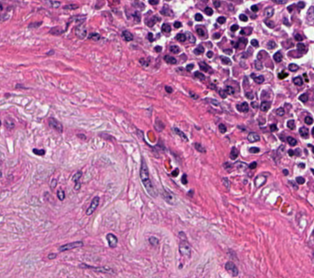nucleus: (140, 159, 155, 196), (58, 241, 83, 251), (86, 196, 99, 214), (49, 118, 62, 131), (174, 127, 187, 140), (75, 24, 86, 38), (106, 233, 117, 247), (232, 38, 246, 48), (162, 190, 173, 202), (146, 16, 159, 26), (199, 62, 211, 72), (251, 73, 263, 83), (236, 102, 248, 112), (161, 5, 172, 15), (255, 175, 265, 186), (164, 55, 176, 64), (72, 171, 81, 183), (122, 30, 132, 40), (260, 101, 270, 111), (194, 142, 204, 152), (148, 236, 158, 246), (247, 132, 258, 141), (5, 118, 14, 128), (89, 32, 100, 40), (175, 33, 186, 41), (155, 119, 163, 130), (264, 7, 273, 16), (161, 23, 170, 32), (196, 27, 205, 36), (194, 45, 203, 54), (273, 51, 281, 61), (220, 56, 230, 64), (240, 27, 251, 34), (57, 189, 64, 200), (186, 33, 194, 42), (139, 58, 148, 66), (254, 60, 262, 69), (225, 86, 234, 94), (218, 89, 226, 98), (206, 99, 218, 105), (194, 72, 204, 79), (230, 148, 237, 158), (33, 148, 44, 154), (235, 162, 246, 168), (204, 7, 212, 15), (267, 40, 275, 48), (218, 124, 226, 132), (264, 20, 273, 27), (170, 45, 179, 52), (49, 1, 59, 7), (194, 13, 202, 20), (239, 14, 247, 21), (217, 16, 225, 23), (230, 24, 238, 31), (276, 108, 284, 115), (29, 22, 40, 27), (133, 12, 139, 21), (223, 178, 229, 187), (50, 179, 56, 188), (249, 147, 259, 152), (174, 21, 181, 28), (251, 39, 258, 46), (171, 169, 178, 176), (64, 5, 76, 9), (181, 174, 186, 183), (213, 1, 220, 7), (251, 5, 258, 11), (186, 64, 193, 70), (165, 86, 172, 92), (190, 92, 197, 98), (270, 124, 276, 131), (223, 162, 230, 168), (249, 162, 256, 168), (148, 33, 153, 41), (246, 92, 252, 98), (155, 46, 161, 51), (207, 51, 212, 57), (149, 1, 158, 4), (213, 33, 219, 37), (275, 1, 285, 3), (224, 50, 230, 53), (0, 3, 2, 10)
